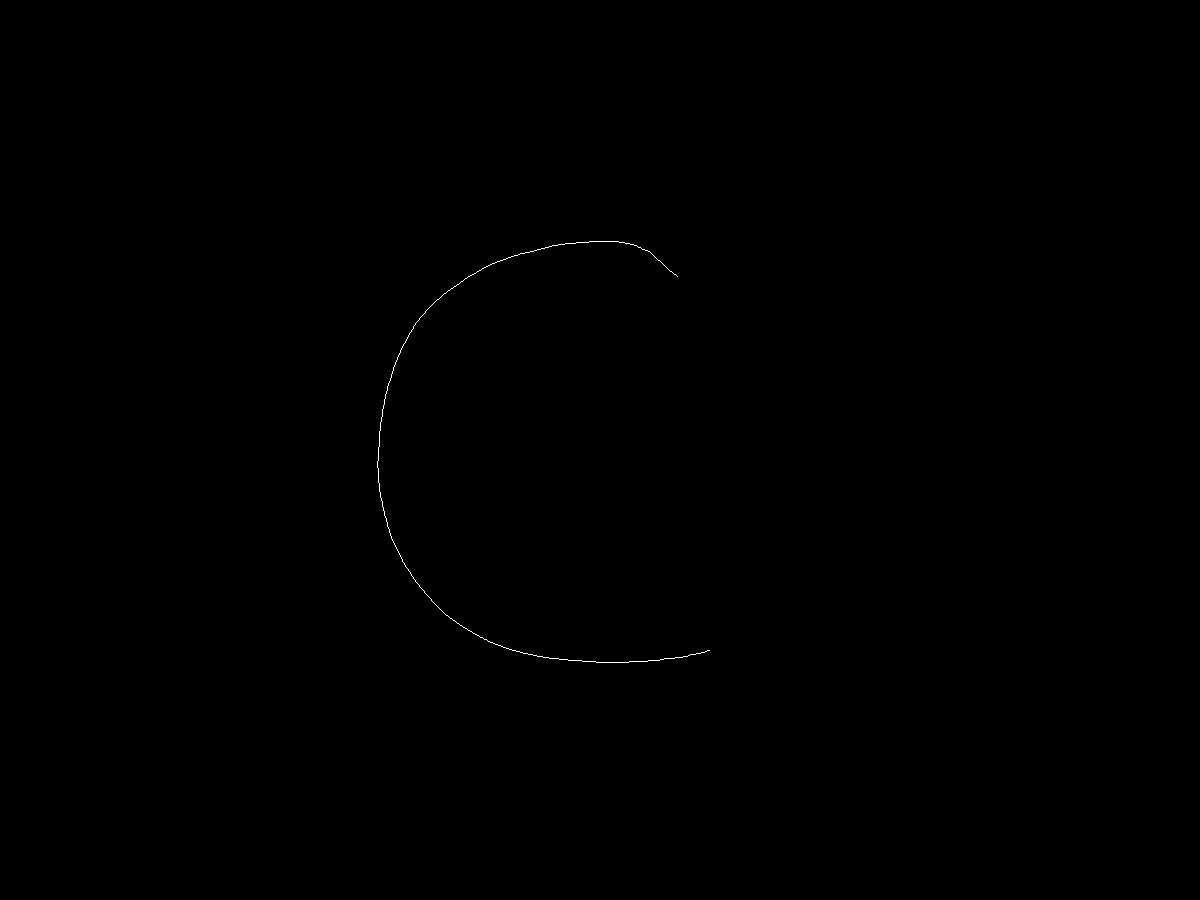dian1: (664, 266, 688, 283)
dian2: (701, 632, 731, 665)
